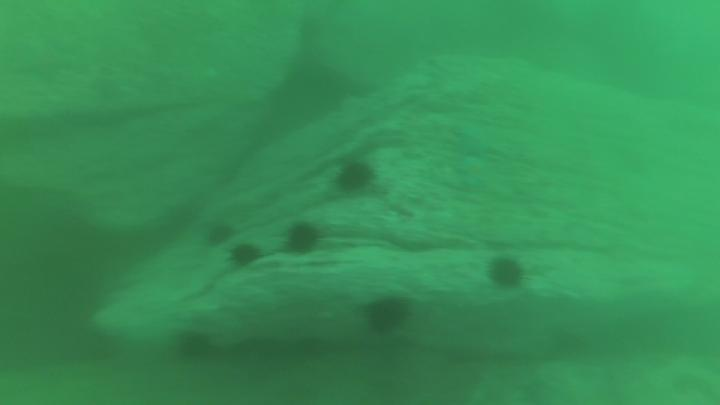echinus: (370, 299, 406, 338), (488, 258, 519, 286), (289, 222, 319, 250), (340, 166, 370, 191), (178, 335, 209, 359), (232, 246, 258, 267)
starfish: (456, 157, 494, 187), (456, 130, 488, 156)
